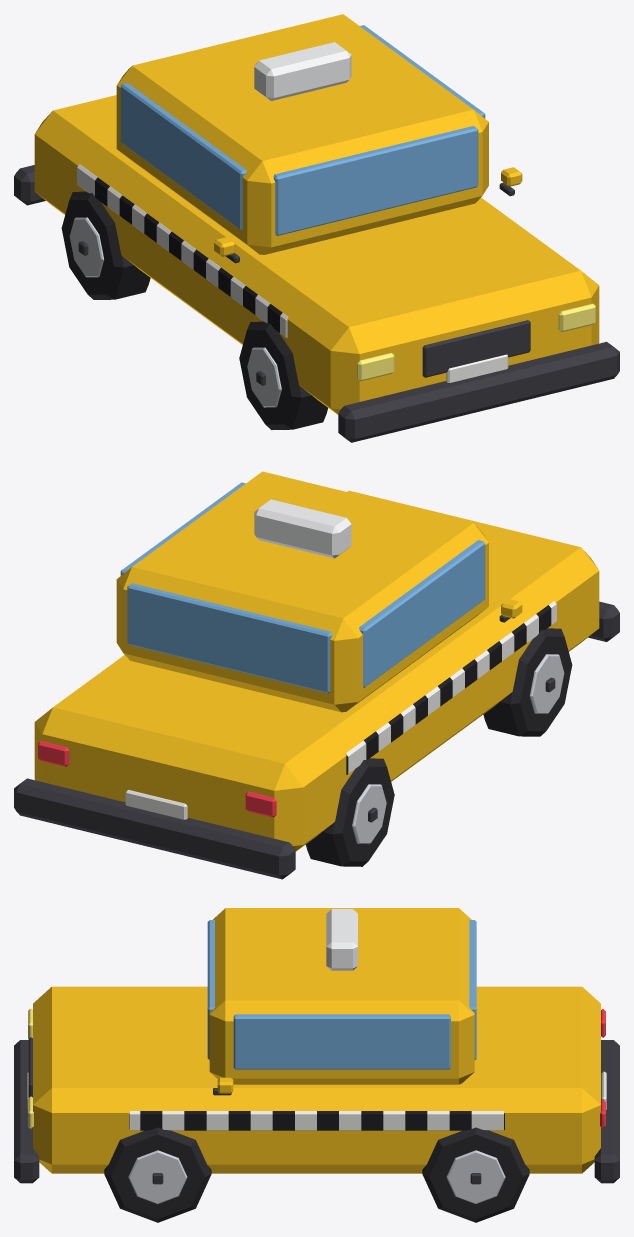
File: Taxi.fbx
The picture shows the model from 3 angles, top to bottom: view 1: azimuth 30°, elevation 25°; view 2: azimuth 150°, elevation 25°; view 3: azimuth 270°, elevation 25°; orthographic projection. The views are drawn at different scales.
Parts seen in each view (by area): view 1: Taxi, Taxi_WheelBR, Taxi_WheelFR; view 2: Taxi, Taxi_WheelBR, Taxi_WheelFR; view 3: Taxi, Taxi_WheelBL, Taxi_WheelFL.
Part boxes in pixels (x1,y1,x2,y2): Taxi: [14, 14, 619, 442]; Taxi_WheelBR: [61, 191, 150, 299]; Taxi_WheelFR: [239, 321, 327, 429]; Taxi: [14, 471, 619, 879]; Taxi_WheelBR: [305, 758, 394, 866]; Taxi_WheelFR: [483, 628, 572, 736]; Taxi: [14, 908, 619, 1183]; Taxi_WheelBL: [422, 1127, 529, 1222]; Taxi_WheelFL: [104, 1127, 211, 1222].
Bounding box in the file's own units: 4.95 × 4.17 × 9.6.
1 material, 1 textured.
